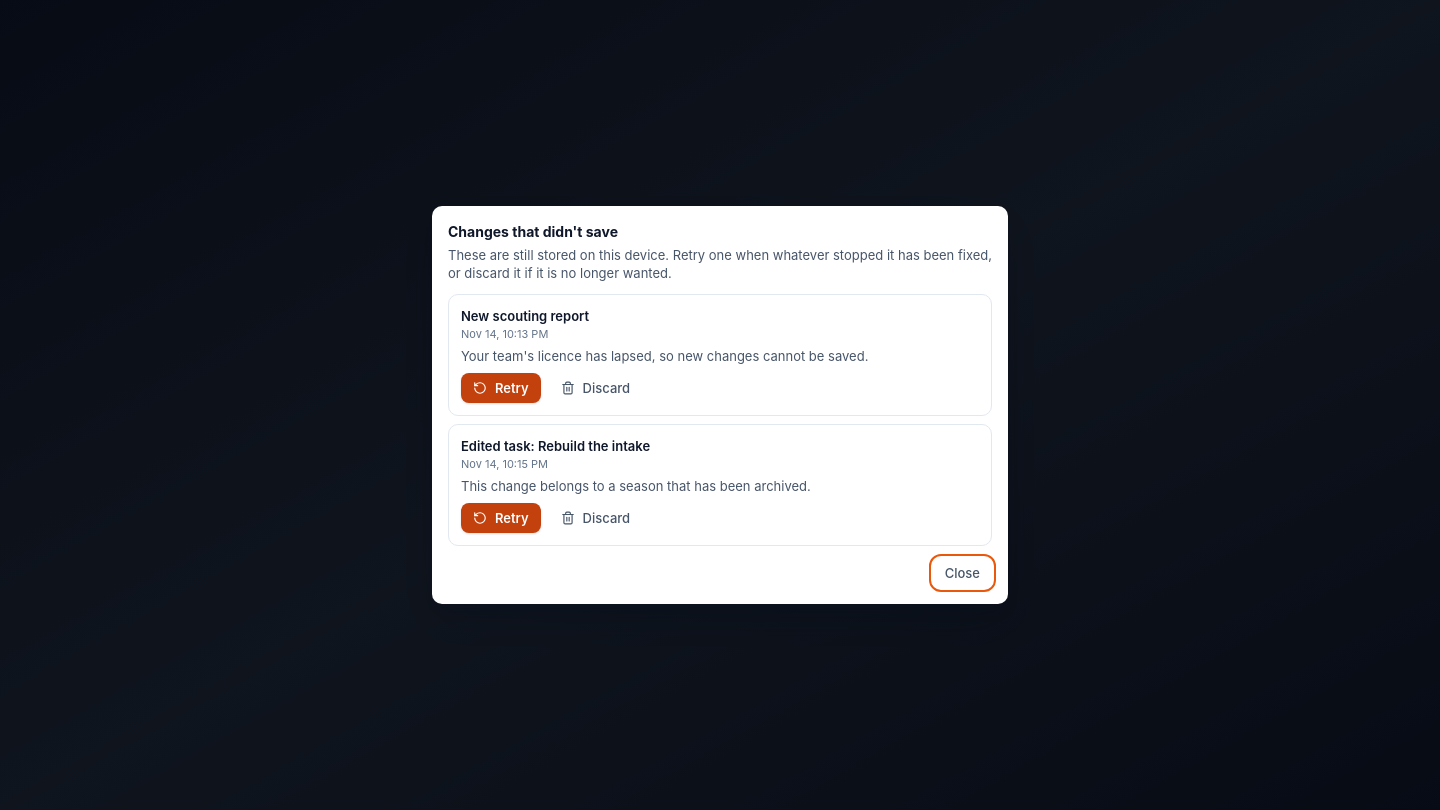
Test case: ParkedChangesDialog › never discards without confirming, and names what would be thrown away
This screenshot has width=1440, height=810.
expect the number of list items with test id "parked-change" is 2: met, box x1=448 y1=294 x2=992 y2=416; x1=448 y1=424 x2=992 y2=546
Click the button with test id "parked-change-discard" at (595,518), box x1=549 y1=503 x2=642 y2=533
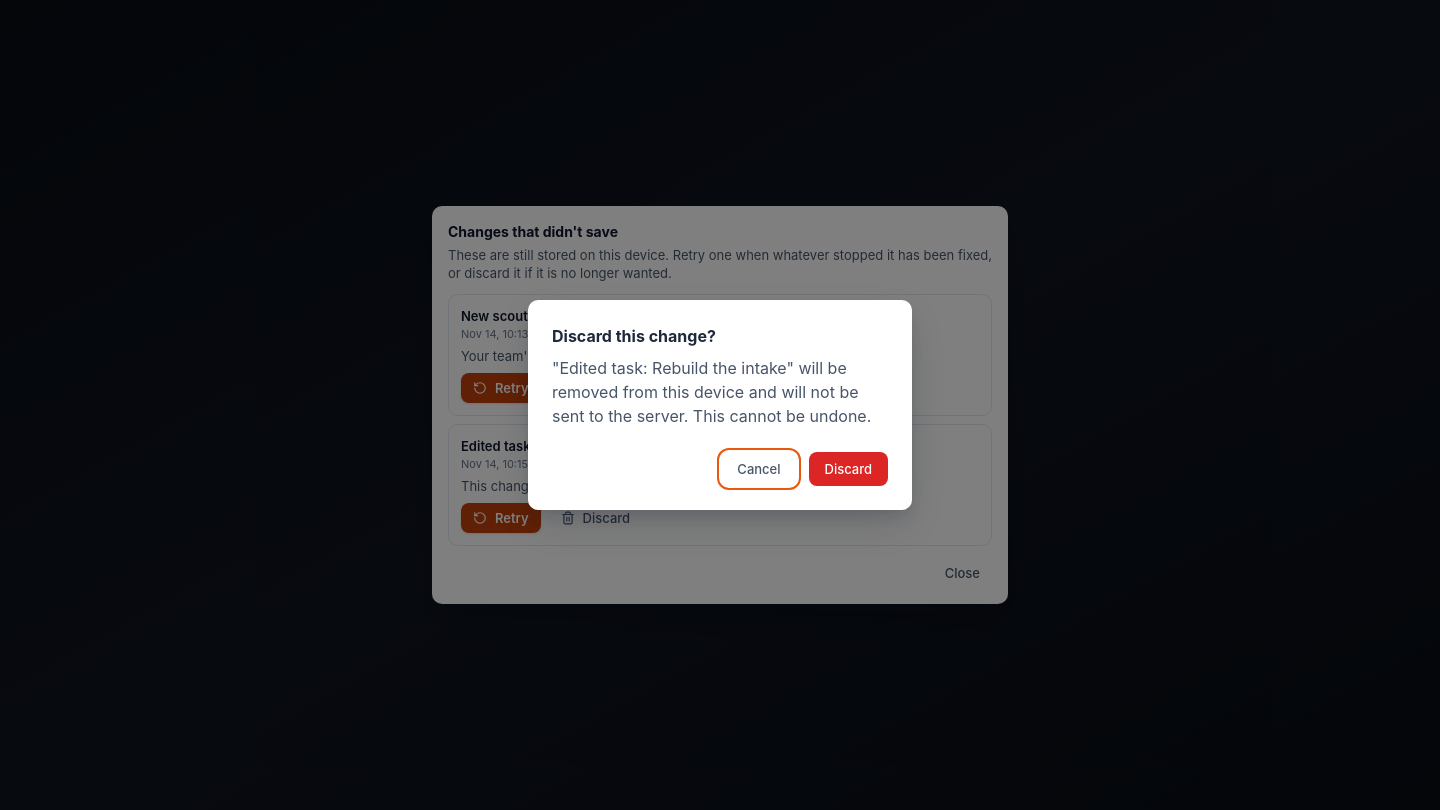
expect the heading "Discard this change?" is shown: met, box x1=552 y1=326 x2=716 y2=346
expect the text "\"Edited task: Rebuild the intake\" will be removed from this device" is shown: met, box x1=552 y1=358 x2=871 y2=426
